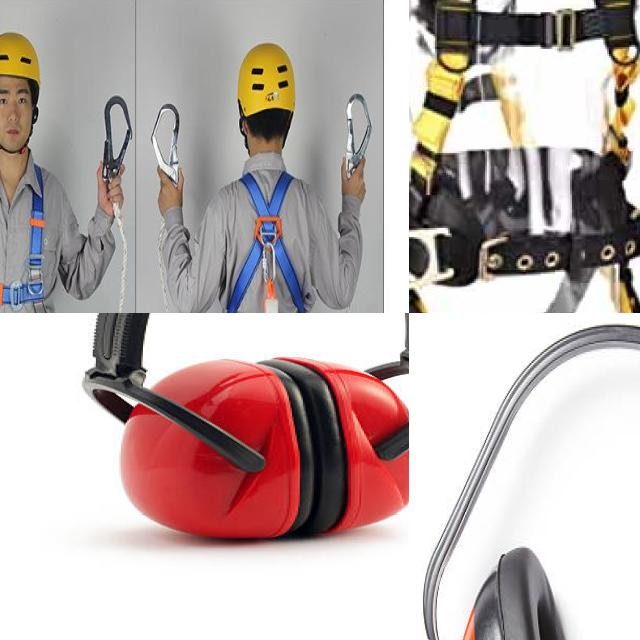Ear-protection: (66, 313, 409, 544), (409, 313, 640, 640)
Harness: (409, 0, 640, 313), (226, 167, 309, 313), (0, 158, 55, 313), (340, 80, 378, 182), (148, 89, 185, 183), (103, 88, 131, 200)
No_Glasses: (0, 85, 30, 110)
